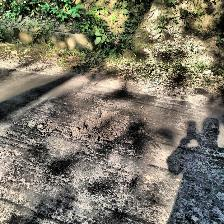pothole: (67, 108, 135, 146)
